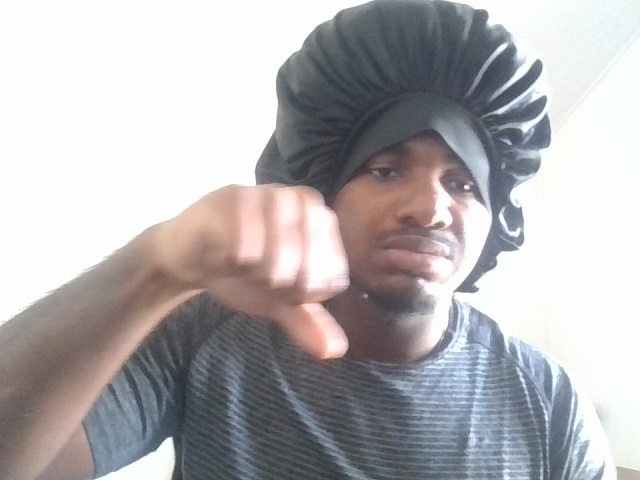Yes: (114, 163, 374, 362)
